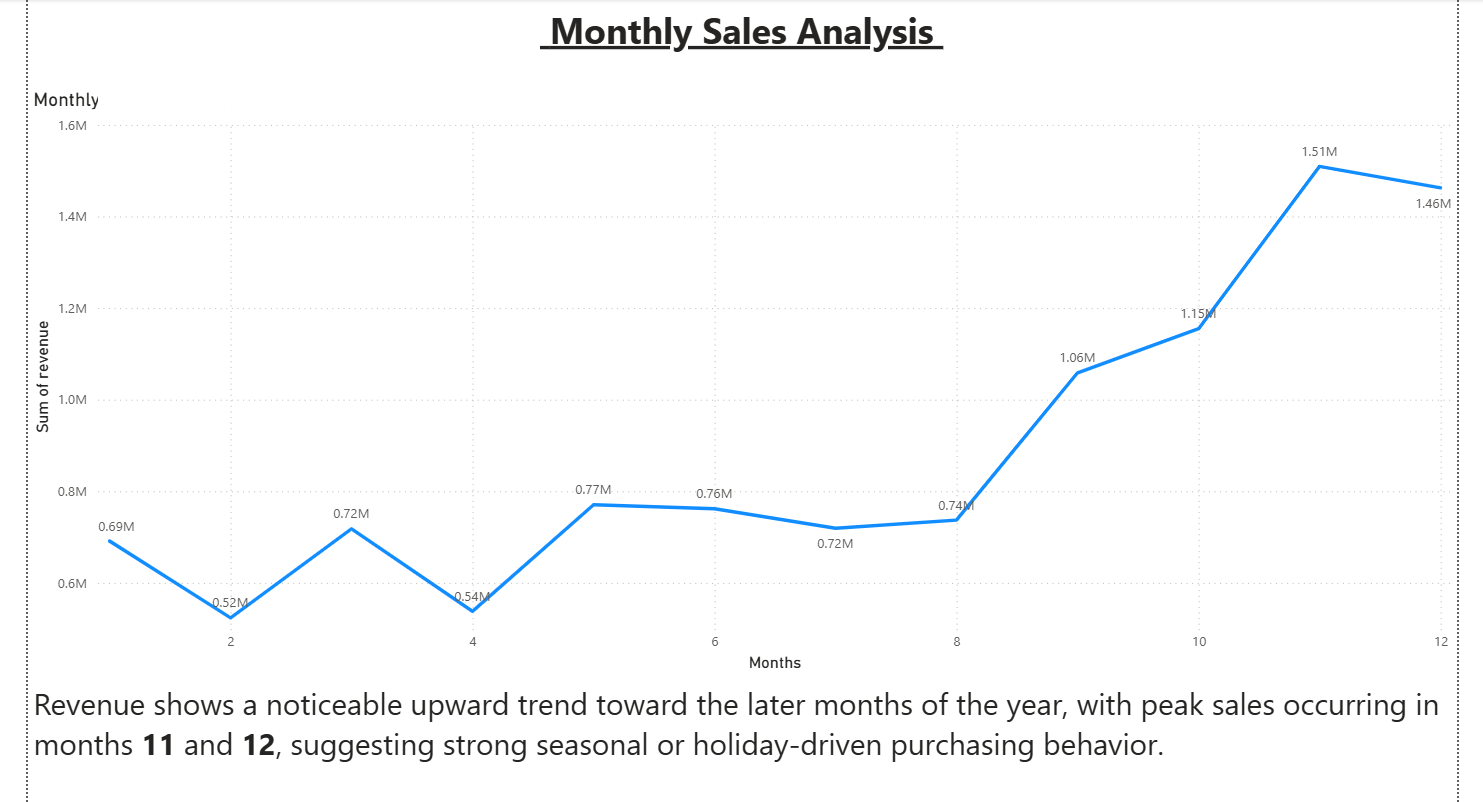

The page's visual inventory and layout, read from the dashboard file:
{"tool":"powerbi","page":{"name":"Page 2","canvas":[1280,720],"ordinal":1},"visuals":[{"type":"lineChart","title":"Monthly Revenue Trend","fields":{"Category":["Monthly revenue trend.month"],"Y":["Sum(Monthly revenue trend.revenue)"]},"box":[0,80,1280,527.1],"z":0},{"type":"textbox","box":[0,607.1,1280,112.9],"z":1000},{"type":"textbox","box":[62.9,0,1152.9,95.7],"z":2000}]}

Visuals, with their boxes on the page's 1280x720 design canvas (x1, y1, x2, y2). These are canvas units, not pixel positions in the 1483x802 screenshot, which may show the page scaled, cropped or inside an application window:
"Monthly Revenue Trend" lineChart: bbox(0, 80, 1280, 607)
textbox: bbox(0, 607, 1280, 720)
textbox: bbox(63, 0, 1216, 96)
